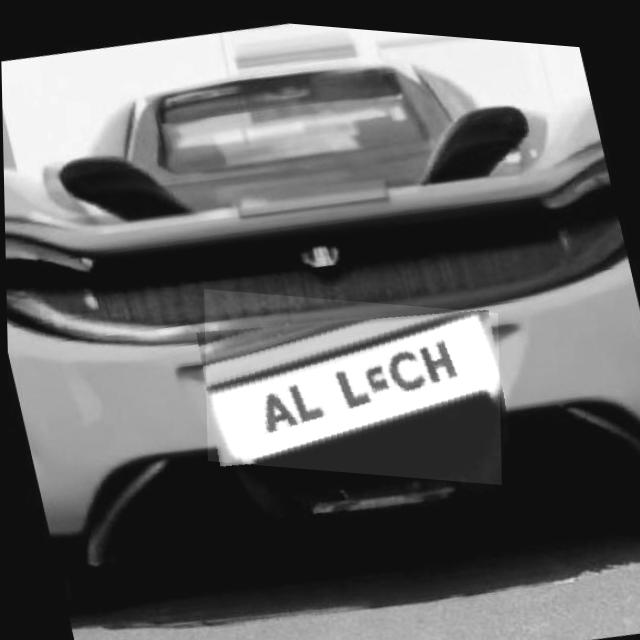LicensePlate: (205, 304, 498, 460)
